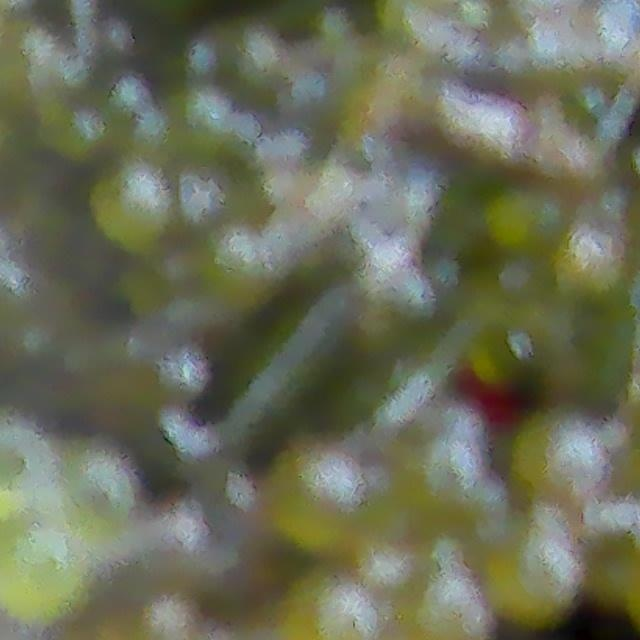SeaGrape: (263, 441, 372, 547), (506, 411, 615, 514), (391, 416, 496, 521), (486, 524, 578, 628), (0, 520, 80, 619), (280, 575, 386, 640), (94, 167, 173, 252), (410, 566, 491, 640), (59, 448, 131, 530)
